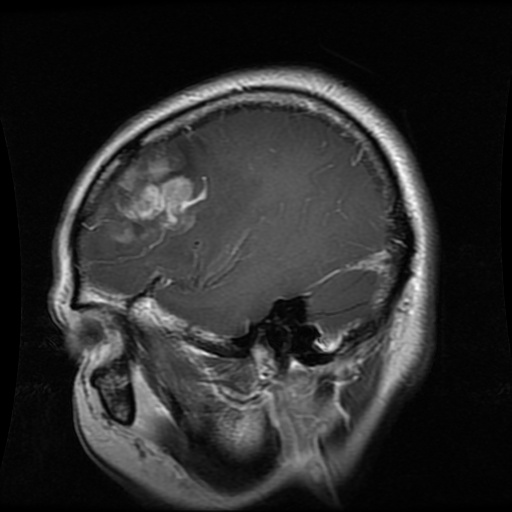glioma: (100, 151, 198, 244)
